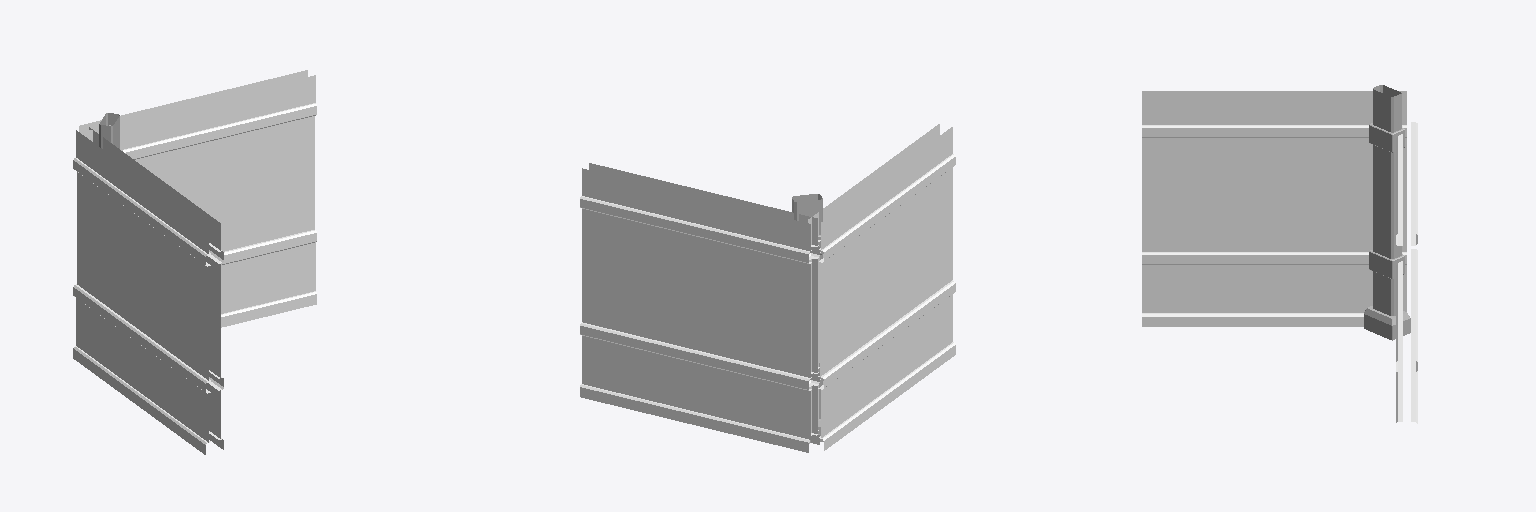
Rendered from Prefab_08.obj.
The picture shows the model from 3 angles: view 1: azimuth 30°, elevation 25°; view 2: azimuth 150°, elevation 25°; view 3: azimuth 270°, elevation 25°; orthographic projection.
Parts seen in each view (by area): view 1: Object006, Object004, Box003; view 2: Object004, Object006, Box003; view 3: Object006, Box003, Object004.
Boxes of the visible parts, <box> form: Object006: <box>73,127,223,454</box>; Object004: <box>79,70,316,327</box>; Box003: <box>99,113,122,150</box>; Object004: <box>580,163,819,452</box>; Object006: <box>808,124,955,450</box>; Box003: <box>792,194,823,442</box>; Object006: <box>1142,91,1406,326</box>; Box003: <box>1364,85,1410,340</box>; Object004: <box>1396,122,1417,423</box>.
Bounding box in the file's own units: 416 × 400 × 416.